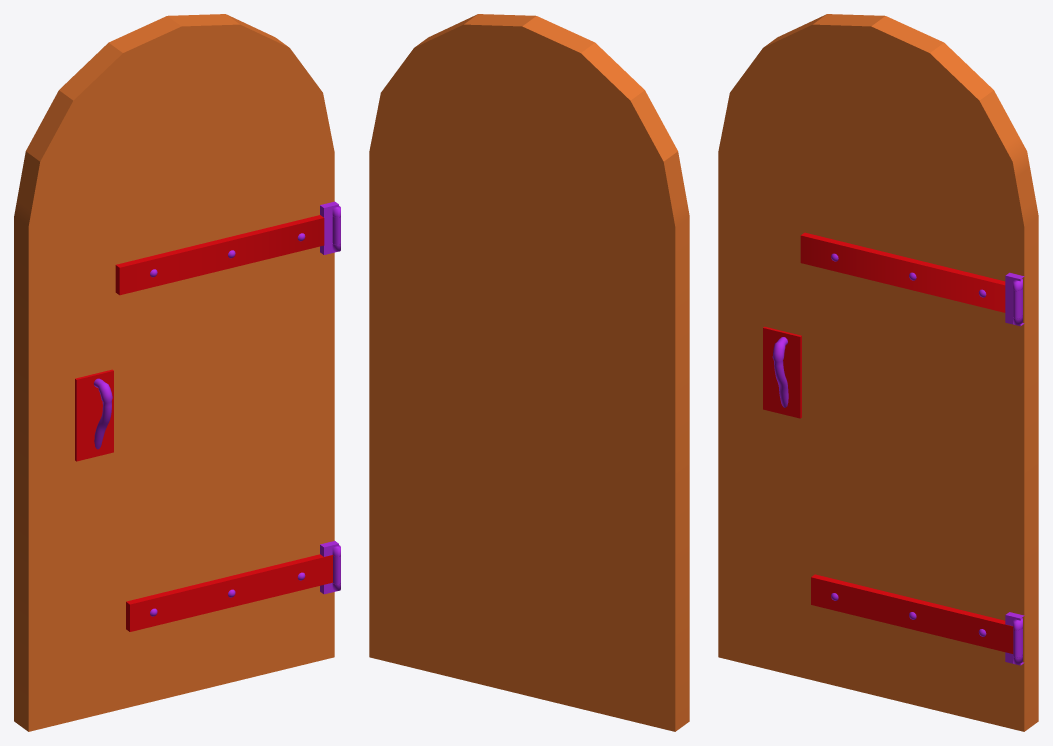
Rendered from Door.fbx.
3 views of the same model, side by side, from view 1: azimuth 30°, elevation 25°; view 2: azimuth 150°, elevation 25°; view 3: azimuth 330°, elevation 25° (orthographic).
Visible parts, largest first — view 1: WoodSurface; view 2: WoodSurface; view 3: WoodSurface.
Boxes of the visible parts, x1,y1,x2,y2 form: WoodSurface: [14, 14, 340, 731]; WoodSurface: [369, 14, 689, 731]; WoodSurface: [718, 14, 1038, 731].
Bounding box in the file's own units: 179 × 372 × 26.71.
